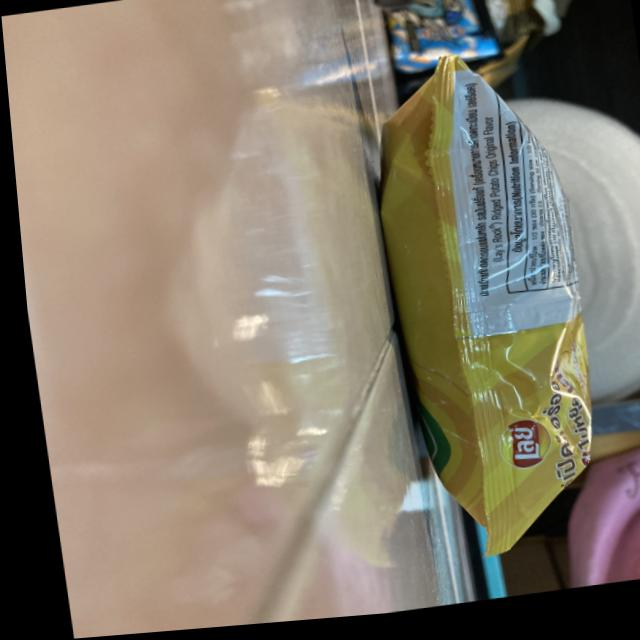LayYellow: (354, 82, 590, 560)
